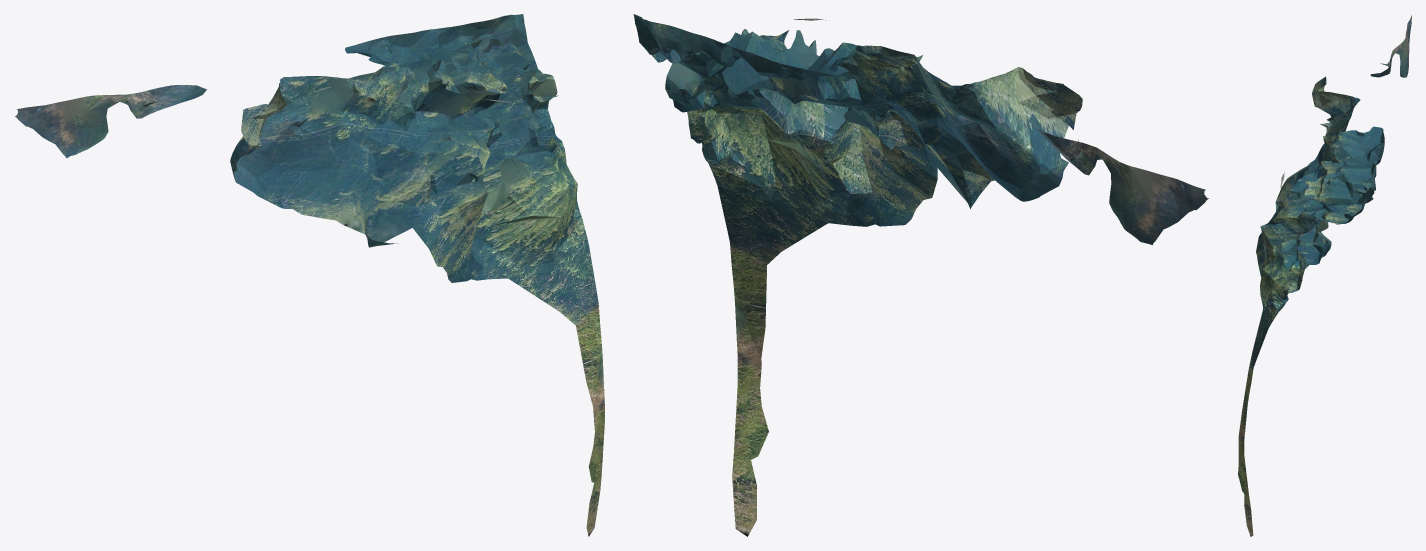
The model's file is Tile_+001_+013.obj.
3 renders of one model, left to right at view 1: azimuth 30°, elevation 25°; view 2: azimuth 150°, elevation 25°; view 3: azimuth 270°, elevation 25°, orthographic. The views are drawn at different scales.
Size of the model in its own units: 90.67 by 83.62 by 37.57.
1 material, 1 textured.
